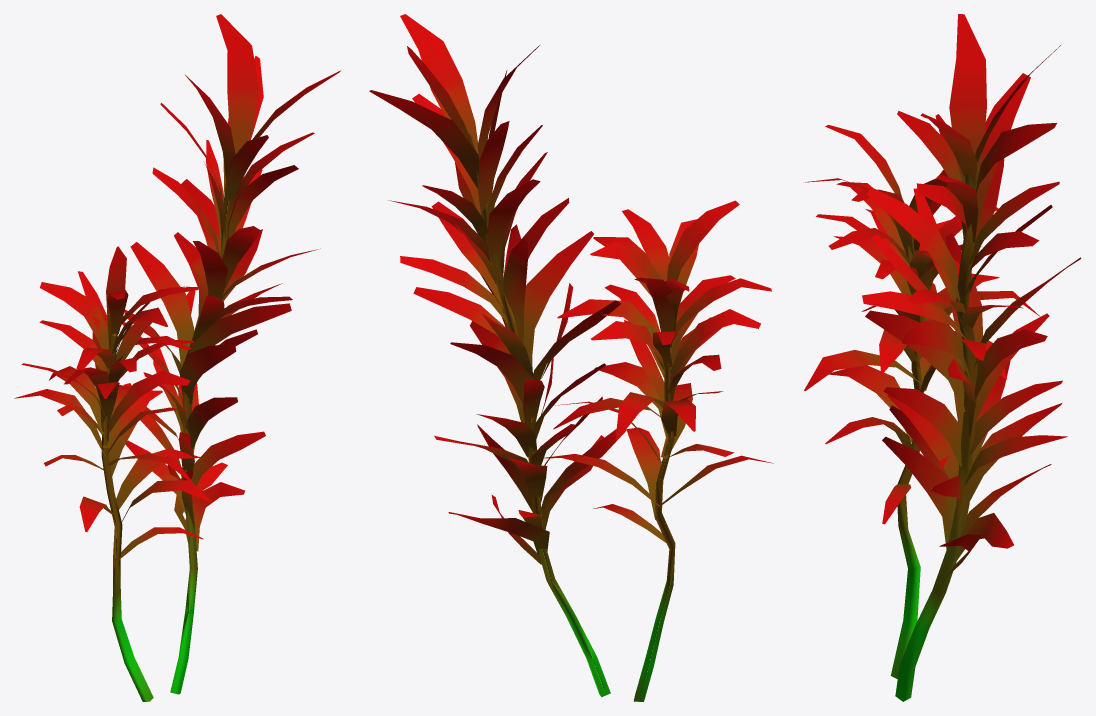
The model's file is Dragon Tree_LOD1_Var5_siumT.fbx.
3 views of the same model, side by side, from view 1: azimuth 30°, elevation 25°; view 2: azimuth 150°, elevation 25°; view 3: azimuth 270°, elevation 25° (orthographic). The views are drawn at different scales.
Visible parts, largest first — view 1: _e89b_Var5_LOD1; view 2: _e89b_Var5_LOD1; view 3: _e89b_Var5_LOD1.
Boxes of the visible parts, left/top/right/bottom form: _e89b_Var5_LOD1: left=14, top=14, right=340, bottom=701; _e89b_Var5_LOD1: left=369, top=14, right=773, bottom=701; _e89b_Var5_LOD1: left=803, top=14, right=1081, bottom=701.
Bounding box in the file's own units: 40.77 × 77.46 × 27.19.
